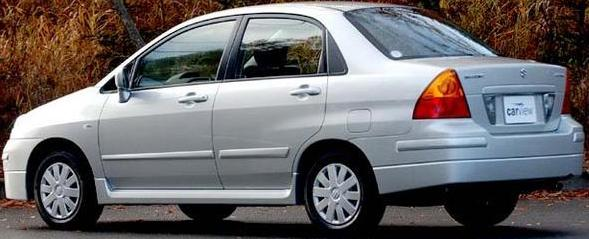back_view: (399, 62, 585, 183)
backlight: (404, 64, 480, 120)
side_glass: (125, 21, 340, 82)
